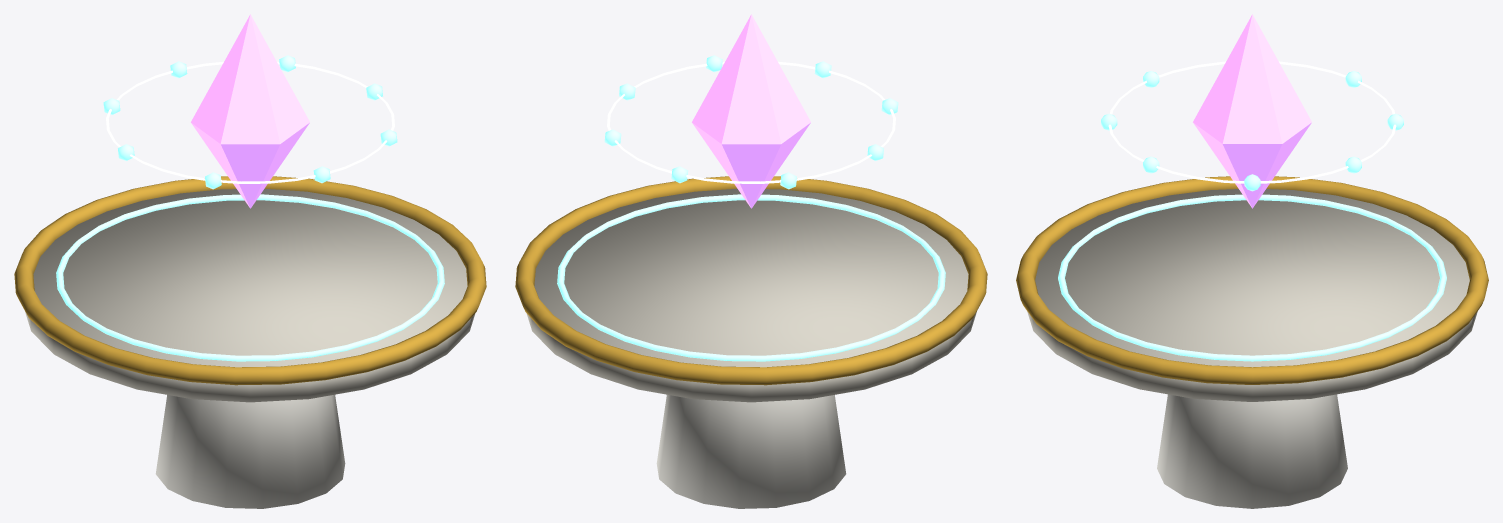
Rendered from elven-crystal.glb.
The picture shows the model from 3 angles, left to right: view 1: azimuth 30°, elevation 25°; view 2: azimuth 150°, elevation 25°; view 3: azimuth 270°, elevation 25°; orthographic projection.
Parts seen in each view (by area): view 1: Model Mesh, Spin Crystal Mesh, Spin- Runes Mesh; view 2: Model Mesh, Spin Crystal Mesh, Spin- Runes Mesh; view 3: Model Mesh, Spin Crystal Mesh, Spin- Runes Mesh.
Part boxes in pixels (left/top/right/bottom): Model Mesh: left=14, top=176, right=486, bottom=508; Spin Crystal Mesh: left=191, top=14, right=309, bottom=208; Spin- Runes Mesh: left=103, top=55, right=397, bottom=189; Model Mesh: left=515, top=176, right=987, bottom=508; Spin Crystal Mesh: left=692, top=14, right=810, bottom=208; Spin- Runes Mesh: left=604, top=55, right=898, bottom=189; Model Mesh: left=1016, top=176, right=1488, bottom=508; Spin Crystal Mesh: left=1193, top=14, right=1311, bottom=208; Spin- Runes Mesh: left=1101, top=61, right=1403, bottom=191.
Bounding box in the file's own units: 1.98 × 2.1 × 1.98.
